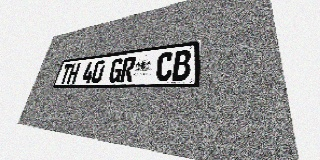0: (90, 60, 106, 83)
4: (81, 61, 96, 83)
B: (172, 50, 191, 81)
C: (155, 52, 174, 81)
G: (108, 58, 124, 83)
H: (66, 63, 81, 84)
R: (119, 56, 137, 82)
T: (59, 64, 73, 84)
